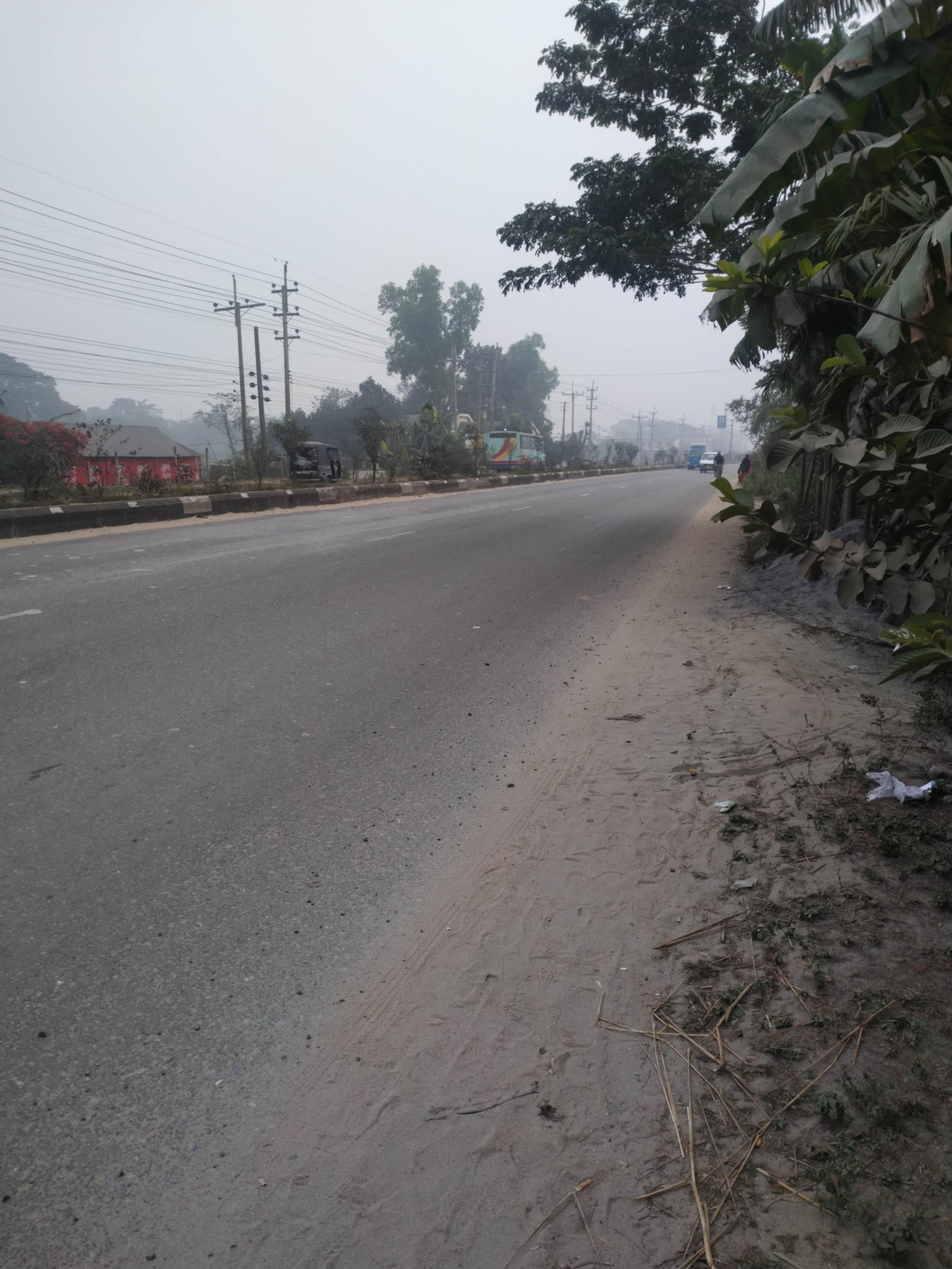Bus: (471, 416, 571, 485)
Car: (694, 440, 728, 486)
